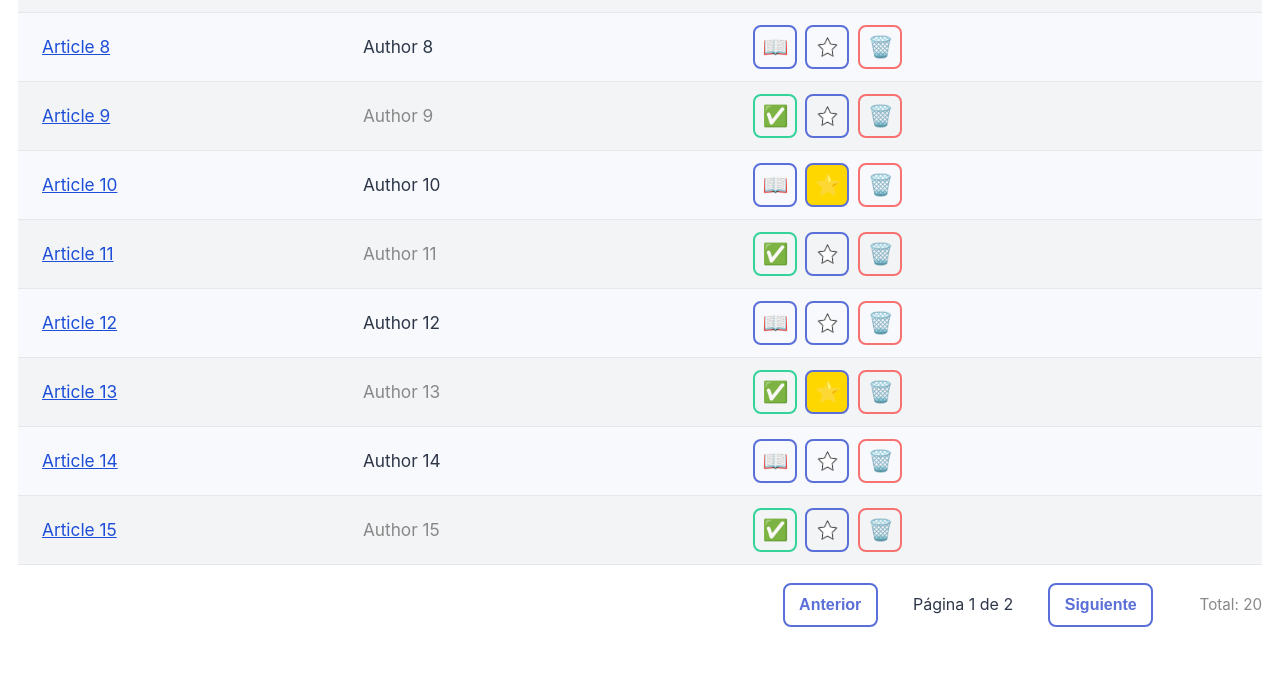
it: ArticleTable - Paginación › resetea a página 1 al cambiar término de búsqueda
The image size is (1280, 691).
(page scrolled)
# Ir a página 2
Click the button "Siguiente": (1101, 605) x1=1048 y1=583 x2=1153 y2=627
(page scrolled)
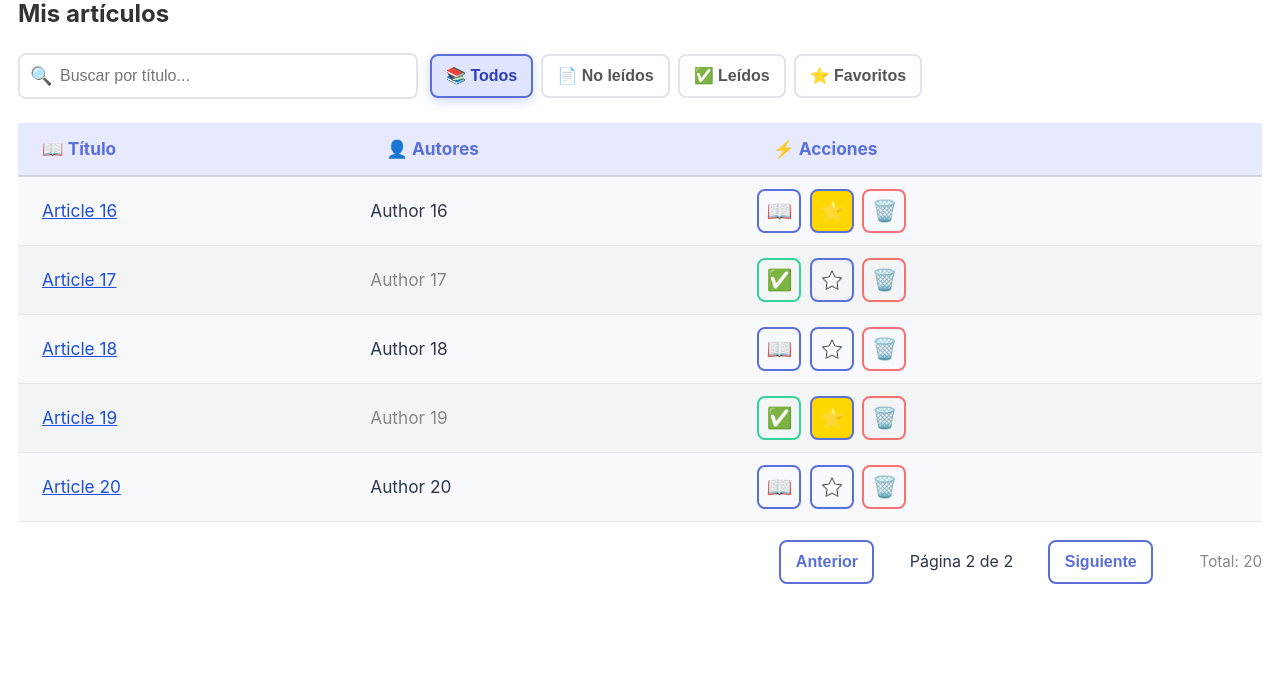
Result: the link titled "Article 16" is shown at x1=42 y1=200 x2=117 y2=221
# Cambiar término de búsqueda (debería resetear a página 1)
In the field with placeholder "Buscar por título...": (218, 76) x1=18 y1=53 x2=418 y2=99, type "Article 5"
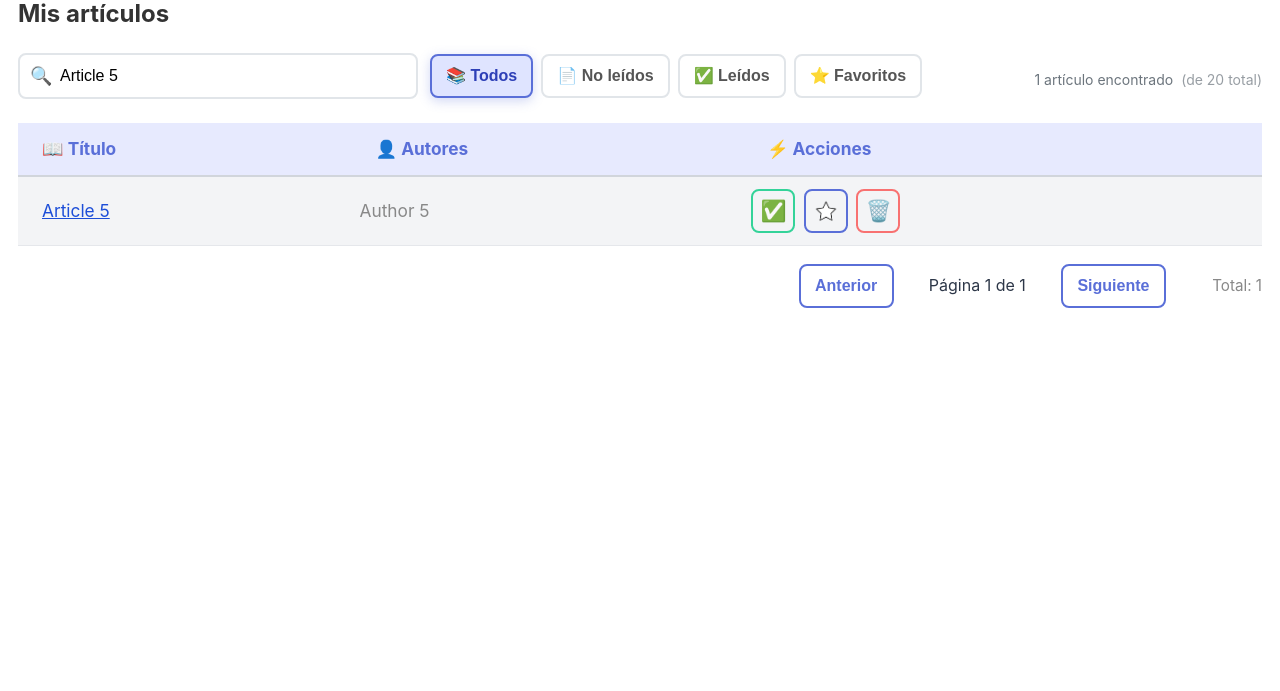
Result: the text "Página 1 de 1" is shown at x1=929 y1=273 x2=1026 y2=299
